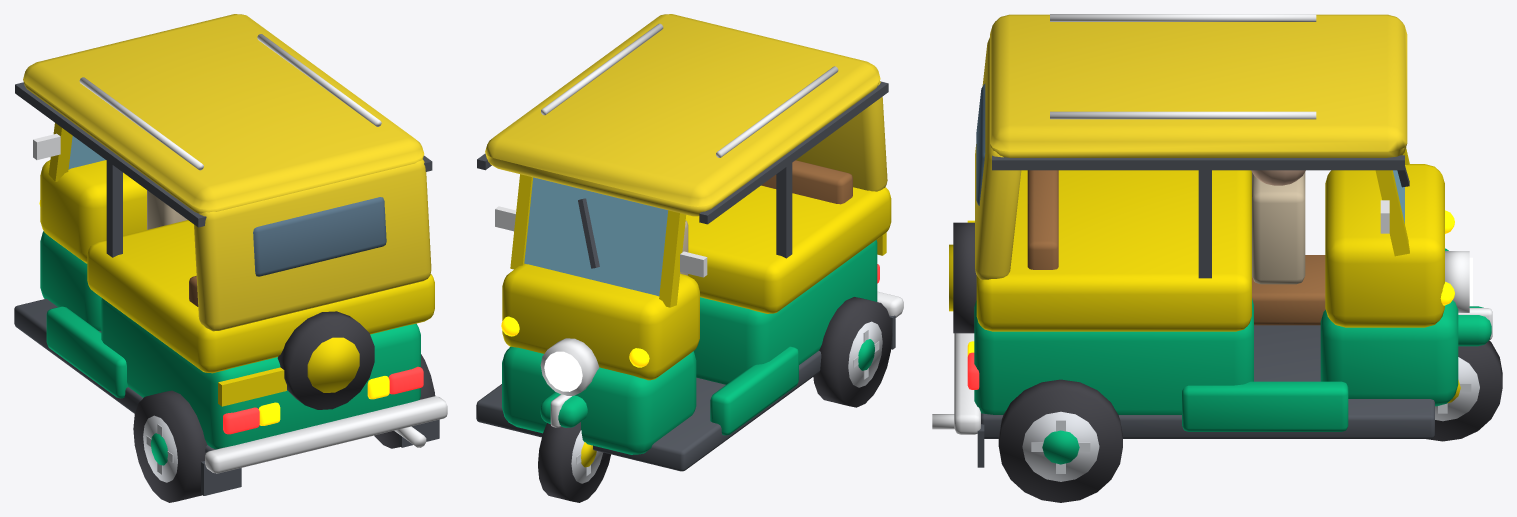
Rendered from auto_rickshaw.glb.
The picture shows the model from 3 angles, left to right: view 1: azimuth 30°, elevation 25°; view 2: azimuth 150°, elevation 25°; view 3: azimuth 270°, elevation 25°; orthographic projection. The views are drawn at different scales.
Visible parts, largest first — view 1: Body_Chassis, Wheel_Rear_L, Wheel_Rear_R; view 2: Body_Chassis, Wheel_Rear_L, Wheel_Front; view 3: Body_Chassis, Wheel_Rear_R, Wheel_Front.
Part boxes in pixels (left/top/right/bottom): Body_Chassis: left=14, top=14, right=447, bottom=495; Wheel_Rear_L: left=133, top=390, right=207, bottom=502; Wheel_Rear_R: left=374, top=354, right=435, bottom=448; Body_Chassis: left=476, top=14, right=903, bottom=471; Wheel_Rear_L: left=813, top=297, right=892, bottom=407; Wheel_Front: left=538, top=422, right=610, bottom=502; Body_Chassis: left=932, top=14, right=1492, bottom=467; Wheel_Rear_R: left=998, top=379, right=1122, bottom=502; Wheel_Front: left=1426, top=340, right=1502, bottom=441.
Bounding box in the file's own units: 1.47 × 1.85 × 2.57.
